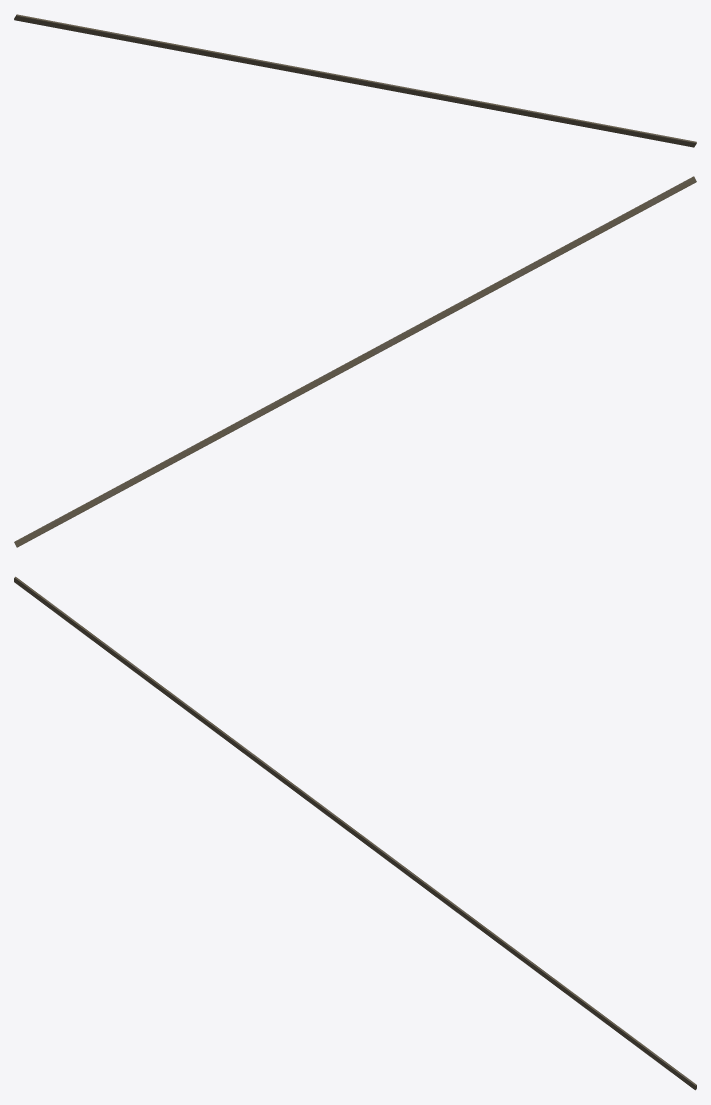
The model's file is BeamUpdate.fbx.
3 views of the same model, one above another, from view 1: azimuth 30°, elevation 25°; view 2: azimuth 210°, elevation 25°; view 3: azimuth 330°, elevation 25° (orthographic). The views are drawn at different scales.
Visible parts, largest first — view 1: Celing10; view 2: Celing10; view 3: Celing10.
Part boxes in pixels (bbox=[...]): Celing10: bbox=[14, 14, 696, 147]; Celing10: bbox=[14, 176, 696, 547]; Celing10: bbox=[14, 576, 696, 1090].
Size of the model in its own units: 3365 by 1280 by 459.
1 material, 1 textured.
